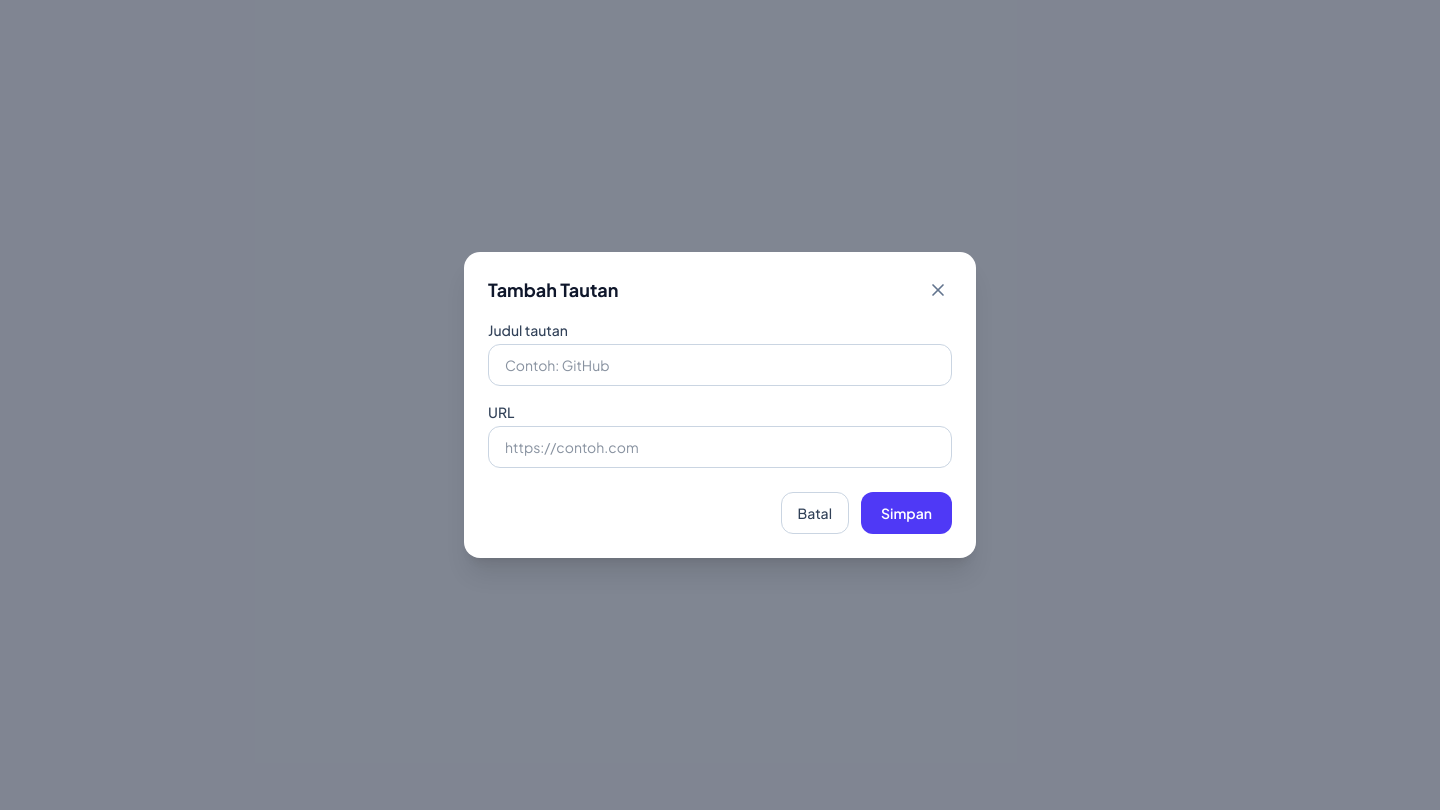
ItemModal › error bila URL bukan teks URL
Type "Situs" into the field labelled "Judul tautan" at [720, 365], box [488,344,952,386]
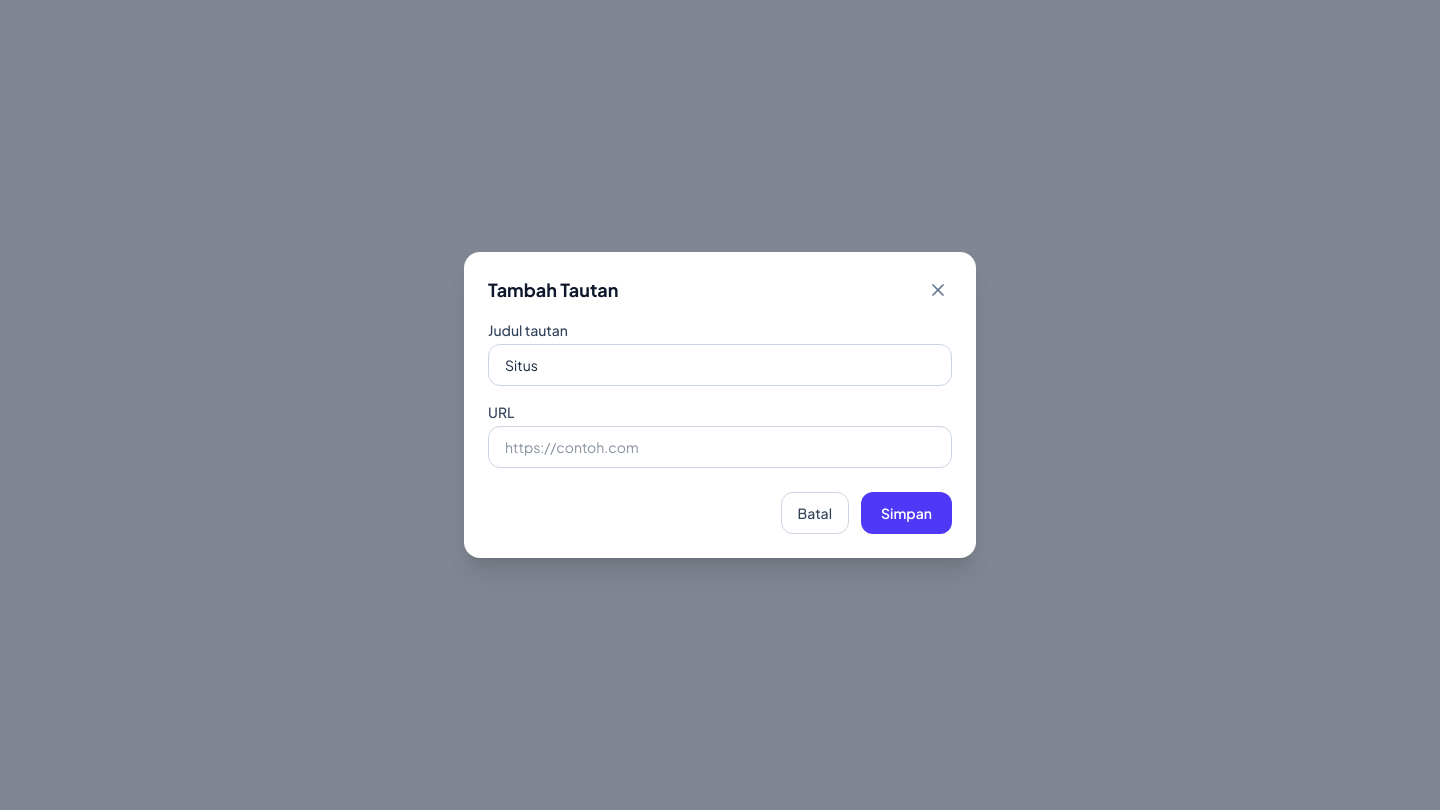
Type "bukan url" into the field labelled "URL" at [720, 447], box [488,426,952,468]
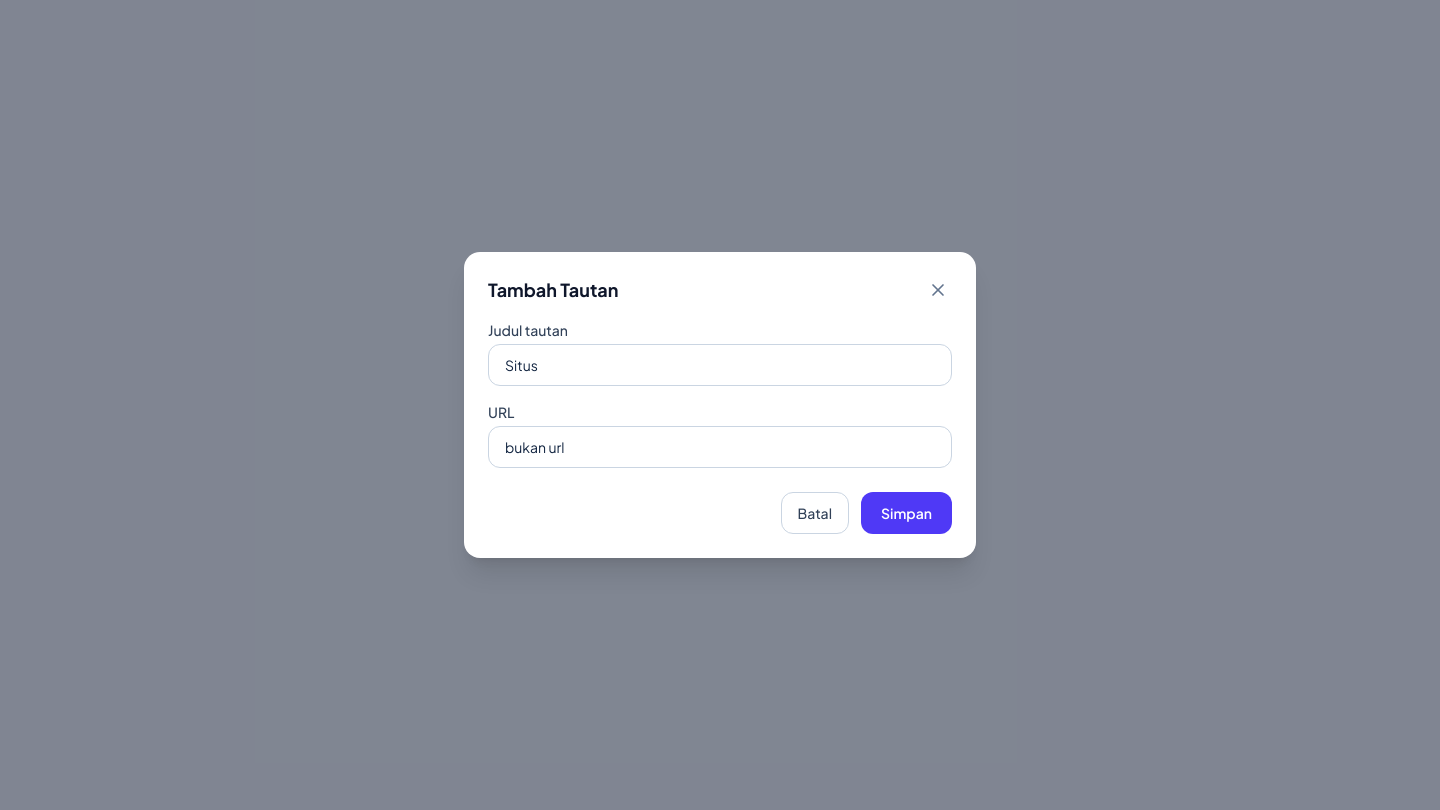
Click the button "Simpan" at [906, 513], box [861,492,952,534]
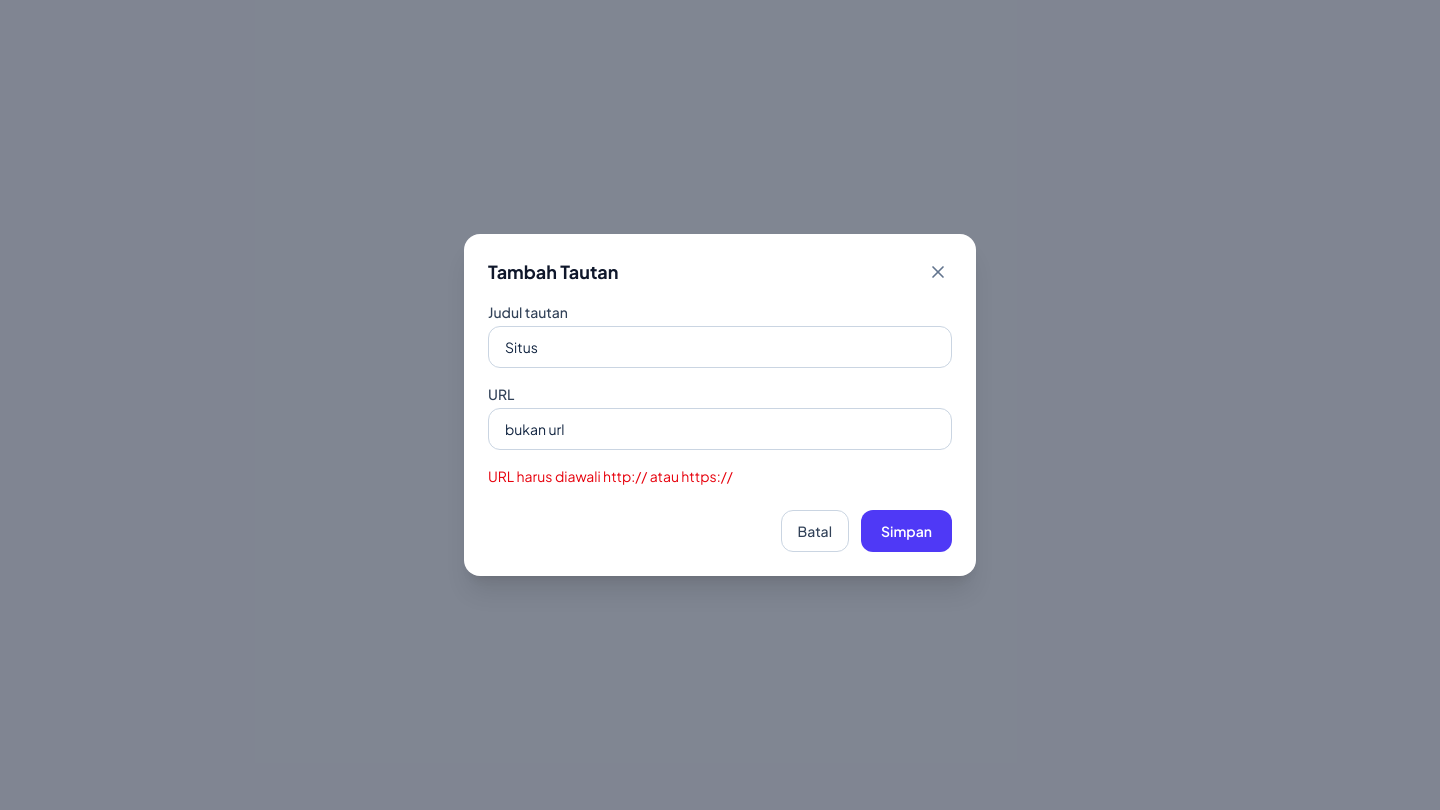
Result: the message shows "URL harus diawali" at [488,467,733,485]
